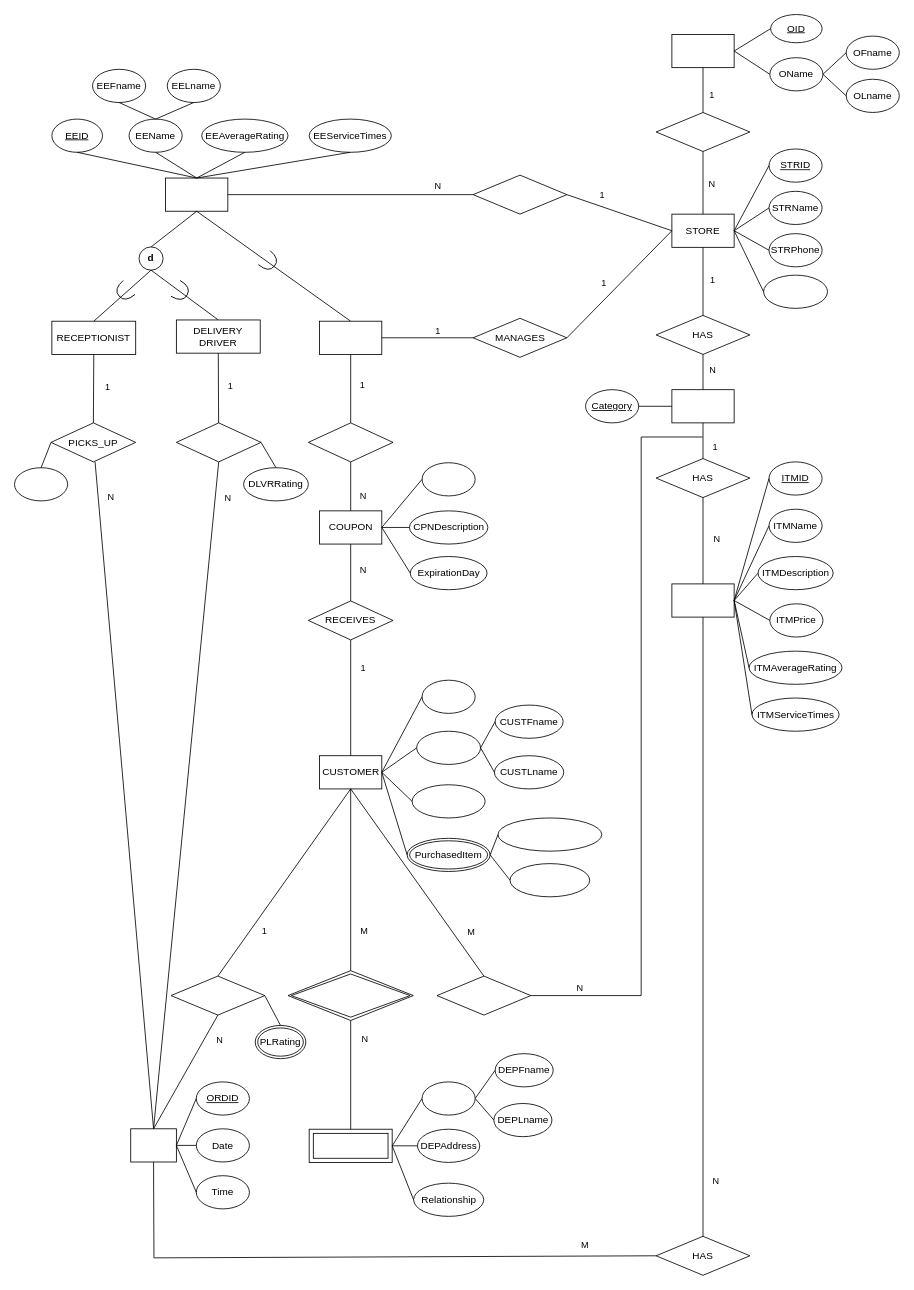
The diagram is 914 pixels wide and 1290 high, and some of its shapes have lost their labels. Here are the shapes that lost their labels. From the top down, the centre of each, then its label:
(702,51): OWNER
(702,131): OWNS
(196,194): EMPLOYEE
(519,194): WORKS_FOR
(795,291): STRAddress
(350,337): MANAGER
(702,406): MENU
(218,442): DELIVERS
(350,442): ISSUES
(41,484): PURating
(448,479): CPNID
(702,600): MENU ITEM
(448,696): CUSTID
(448,747): CUSTName
(448,801): CUSTAddress
(549,834): CUSTAverageRating
(549,880): PurchaseTimes
(217,995): PLACES
(350,995): DEPENDENTS_OF
(483,995): LOOKS_UP
(448,1098): DEPName
(153,1145): ORDER
(350,1145): DEPENDENT
